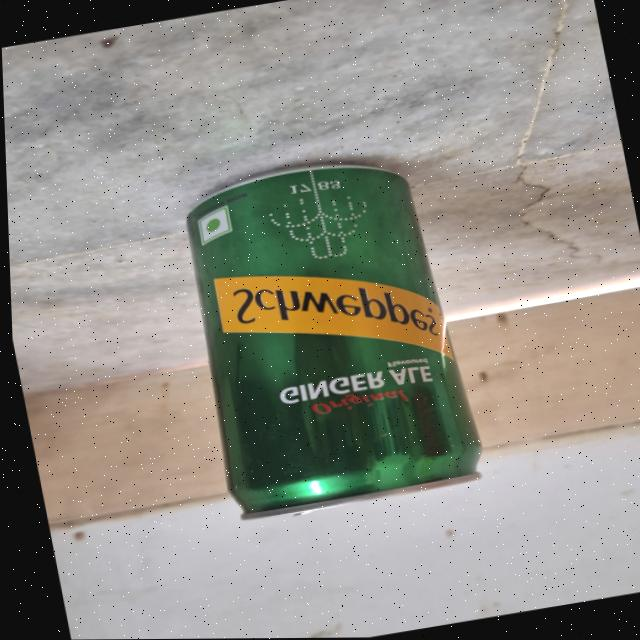Schweppes: (153, 146, 486, 530)
